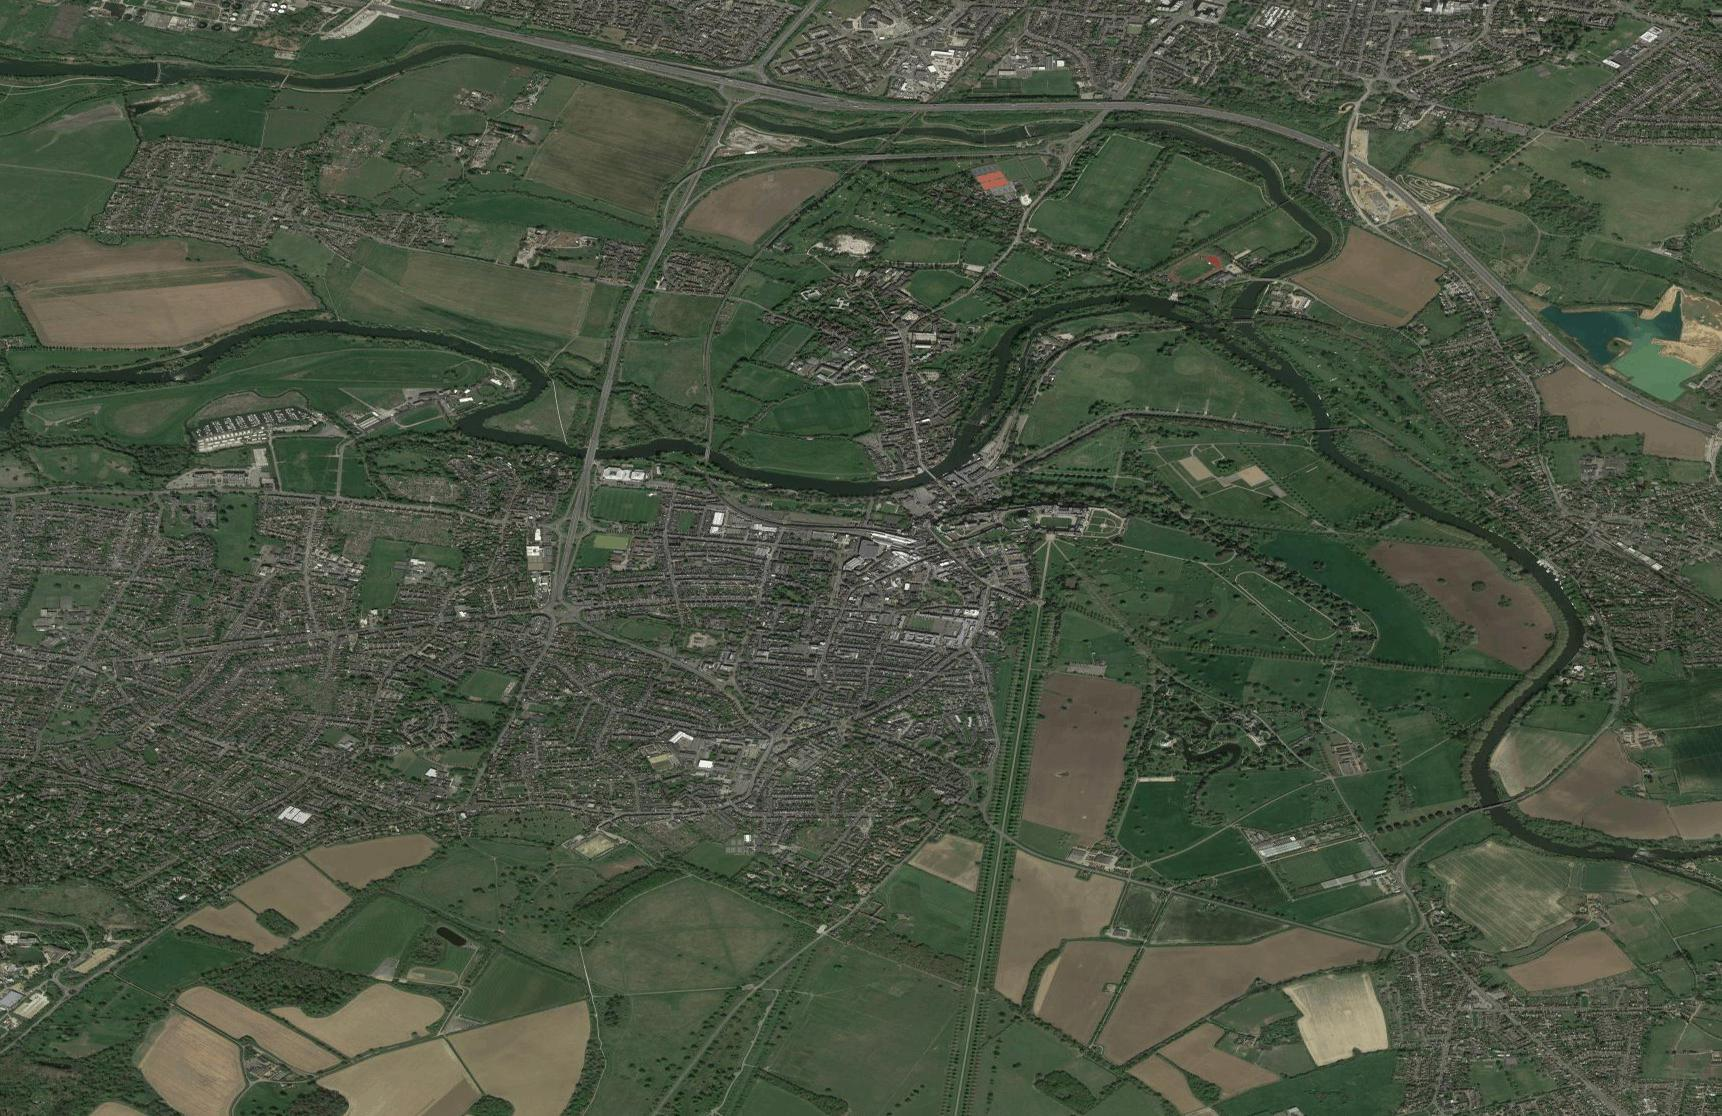bridge: (916, 463, 943, 482), (1481, 795, 1507, 813), (700, 444, 713, 459)
industrial: (192, 405, 314, 453), (897, 40, 964, 97)
motorway: (1477, 265, 1722, 443), (1325, 141, 1479, 267), (594, 46, 827, 122), (1087, 84, 1328, 151), (375, 3, 623, 46), (826, 87, 1087, 124), (646, 158, 705, 267), (550, 485, 589, 598), (607, 270, 646, 379), (579, 382, 611, 488)
train_station: (853, 518, 921, 556)
